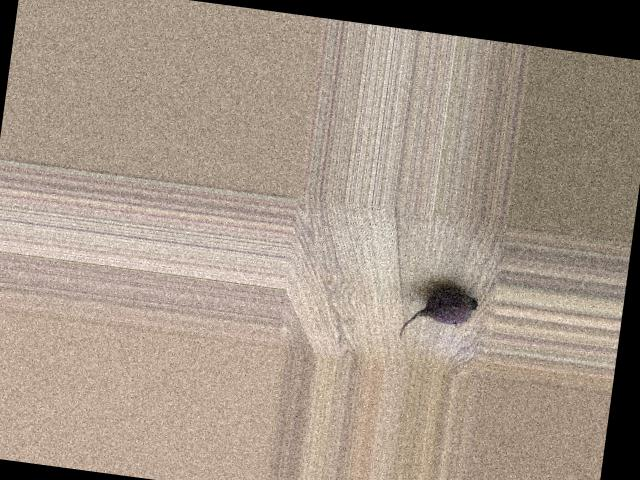beet: (397, 283, 478, 348)
